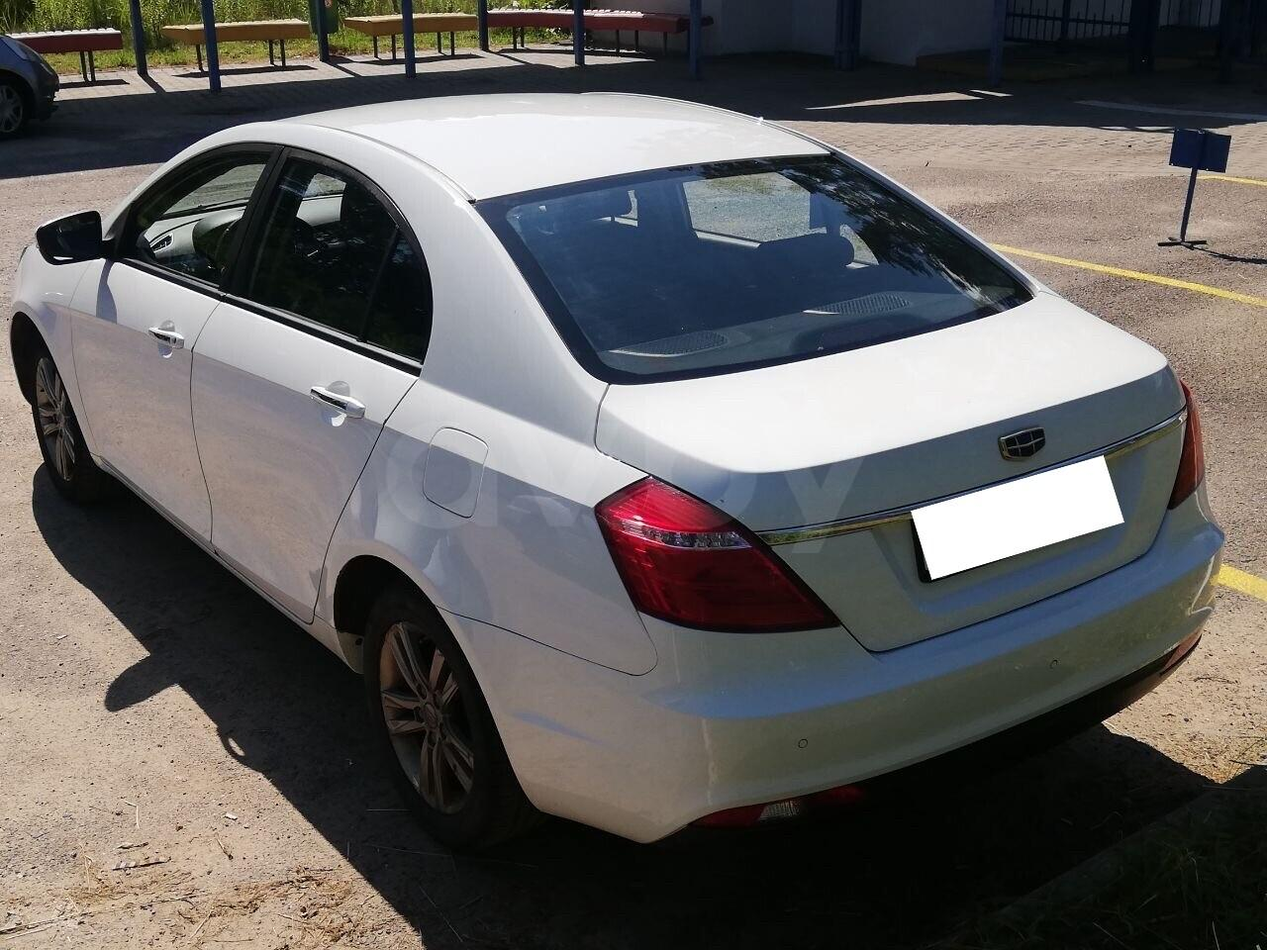Emgrand_2019-2021: (11, 93, 1223, 848)
